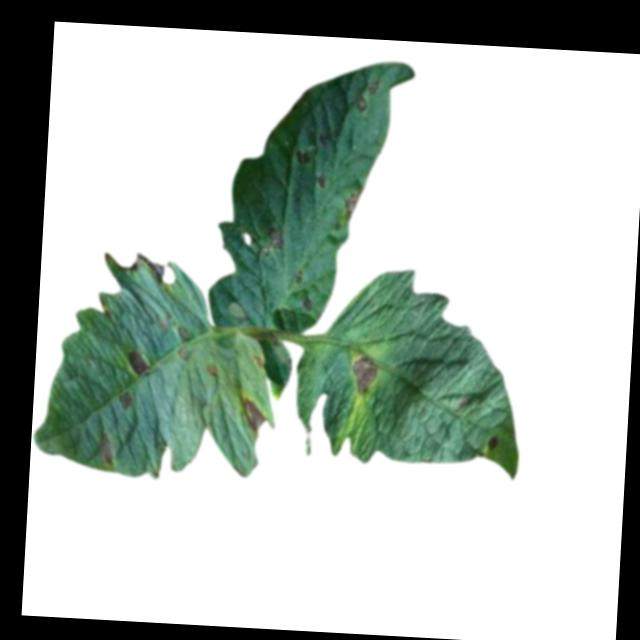Early_blight: (237, 396, 269, 436), (349, 356, 380, 396), (123, 348, 150, 379), (96, 428, 115, 465), (263, 228, 285, 252), (342, 193, 362, 218), (116, 392, 131, 412), (352, 96, 366, 117), (293, 150, 308, 167), (174, 326, 189, 340), (300, 297, 313, 312), (486, 436, 498, 452)
